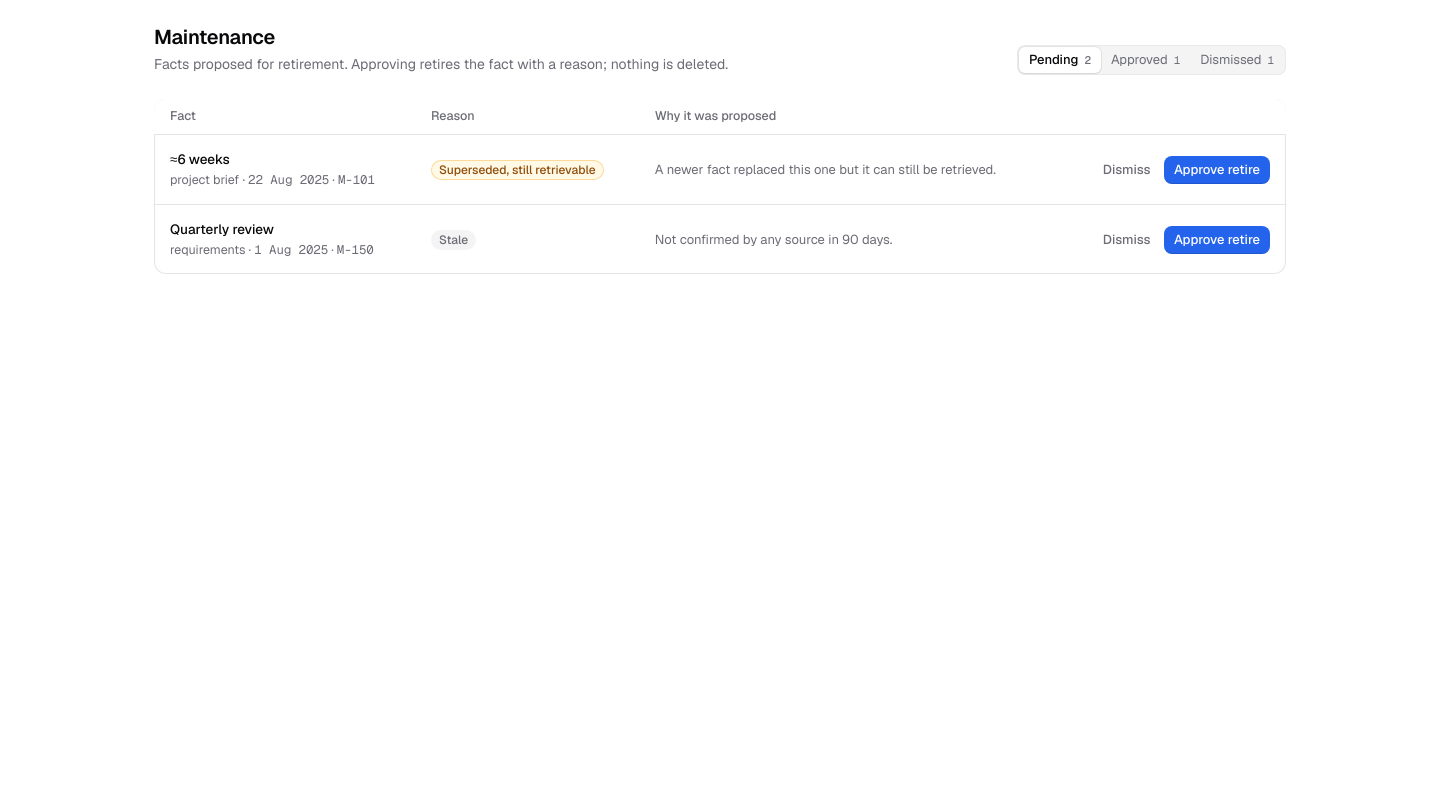
Test: Maintenance › deciding › approving retires the fact as the current person, refreshes and confirms
expect the text "≈6 weeks" is shown: met, box [170,150,230,168]
Click the button "Approve retire" in the row of "Superseded, still retrievable": click(1217, 170) [1164,156,1270,184]
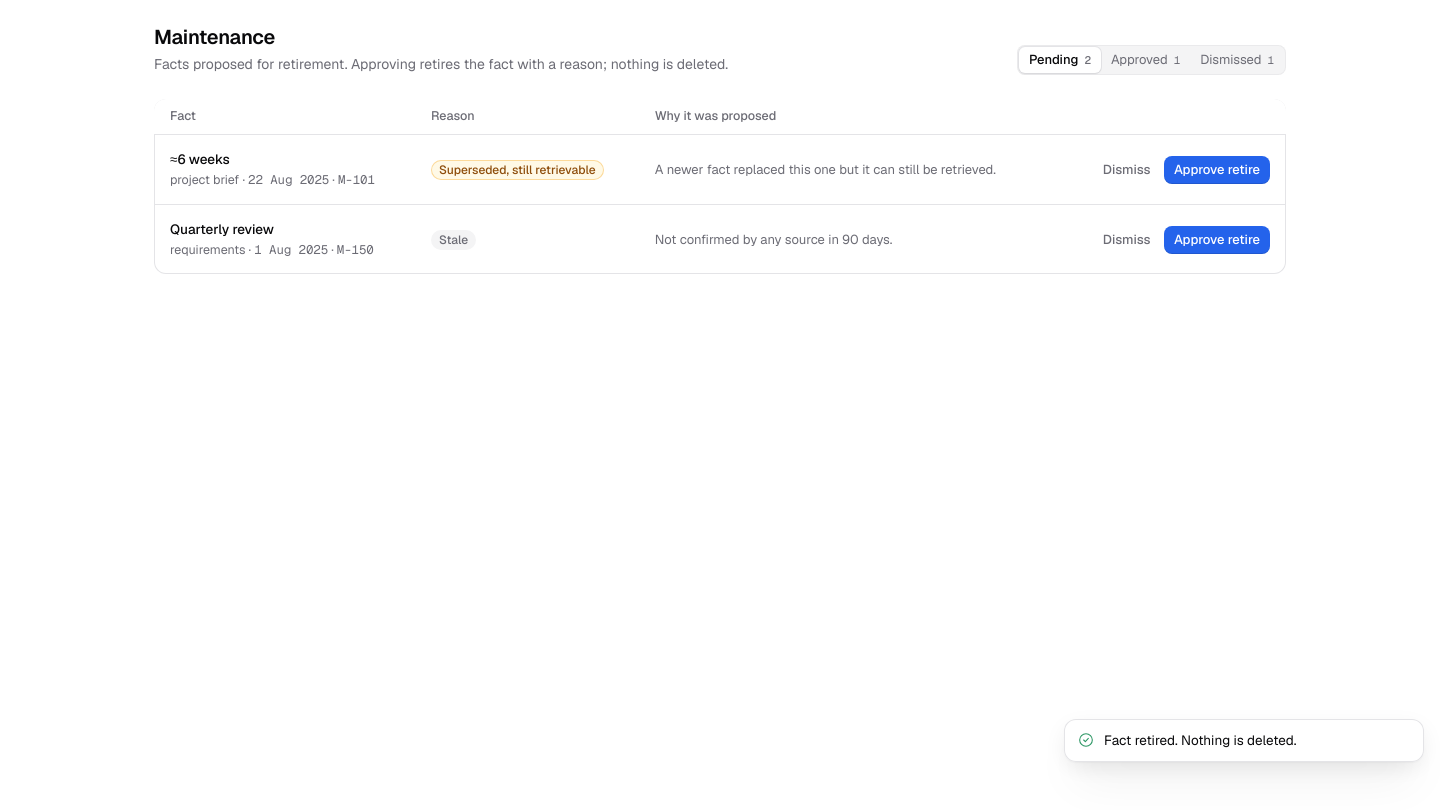
expect the text "Fact retired. Nothing is deleted." is shown: met, box [1104,731,1296,749]
